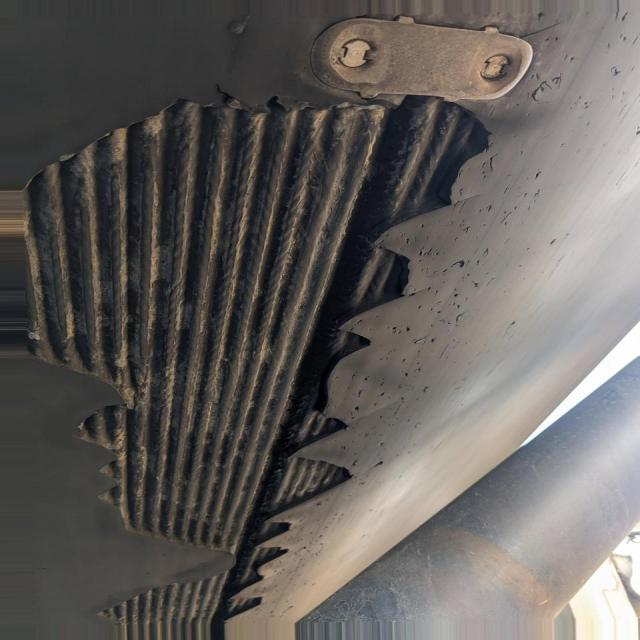Tear: (17, 84, 501, 640)
